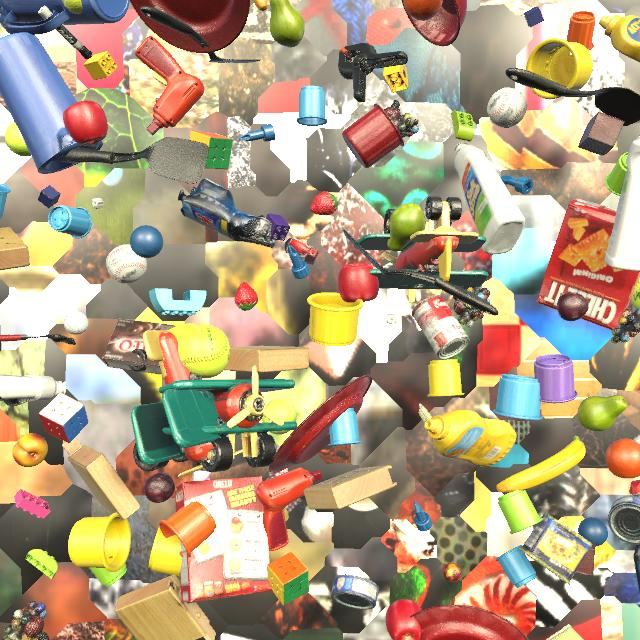ycb_003_cracker_box: (536, 198, 640, 330), (175, 476, 272, 604)
ycb_005_tomato_soup_can: (412, 295, 469, 359)
ycb_006_mustard_bottle: (424, 410, 517, 467), (599, 15, 640, 62)
ycb_007_tuna_fish_can: (331, 574, 379, 610), (608, 496, 640, 545)
ycb_008_pudding_box: (102, 318, 175, 375)
ycb_010_potted_meat_can: (519, 512, 592, 585)
ycb_011_banana: (496, 436, 586, 493), (252, 0, 268, 11)
ycb_012_strawberry: (234, 282, 258, 311), (310, 191, 338, 215)
ycb_013_apple: (63, 100, 108, 146), (338, 263, 379, 303), (386, 599, 422, 640)
ycb_015_peach: (12, 433, 48, 467)
ycb_016_pear: (387, 203, 426, 251), (577, 395, 627, 431), (269, 0, 305, 47)
ycb_017_orange: (605, 438, 640, 479), (403, 0, 443, 21)
ycb_018_plum: (144, 473, 175, 503), (557, 292, 589, 321)
